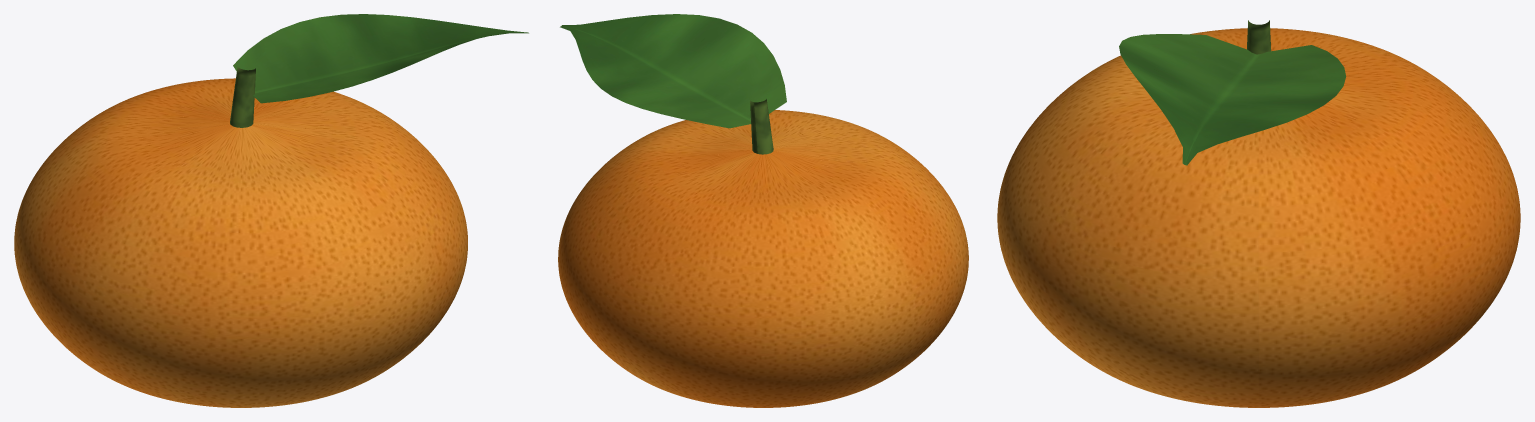
File: mandarine.glb
3 views of the same model, side by side, from view 1: azimuth 30°, elevation 25°; view 2: azimuth 150°, elevation 25°; view 3: azimuth 270°, elevation 25° (orthographic). The views are drawn at different scales.
Visible parts, largest first — view 1: entier_peau, moitie_A_peau, entier_extra1, moitie_B_peau, entier_extra0; view 2: entier_peau, moitie_B_peau, entier_extra1, moitie_A_peau, entier_extra0; view 3: entier_peau, moitie_B_peau, moitie_A_peau, entier_extra1, entier_extra0.
Boxes of the visible parts, box(x1,y1,x2,y2) form: entier_peau: box(14, 78, 467, 407); moitie_A_peau: box(47, 109, 467, 407); entier_extra1: box(233, 14, 528, 103); moitie_B_peau: box(14, 78, 388, 351); entier_extra0: box(230, 66, 255, 127); entier_peau: box(558, 110, 968, 407); moitie_B_peau: box(558, 137, 938, 407); entier_extra1: box(560, 14, 786, 128); moitie_A_peau: box(630, 110, 968, 355); entier_extra0: box(750, 99, 773, 154); entier_peau: box(998, 28, 1519, 407); moitie_B_peau: box(1262, 28, 1520, 407); moitie_A_peau: box(997, 28, 1255, 407); entier_extra1: box(1119, 34, 1346, 165); entier_extra0: box(1247, 20, 1271, 54).
Size of the model in its own units: 0.0784 by 0.0524 by 0.068.
Materials: 4 (4 with a texture image).
